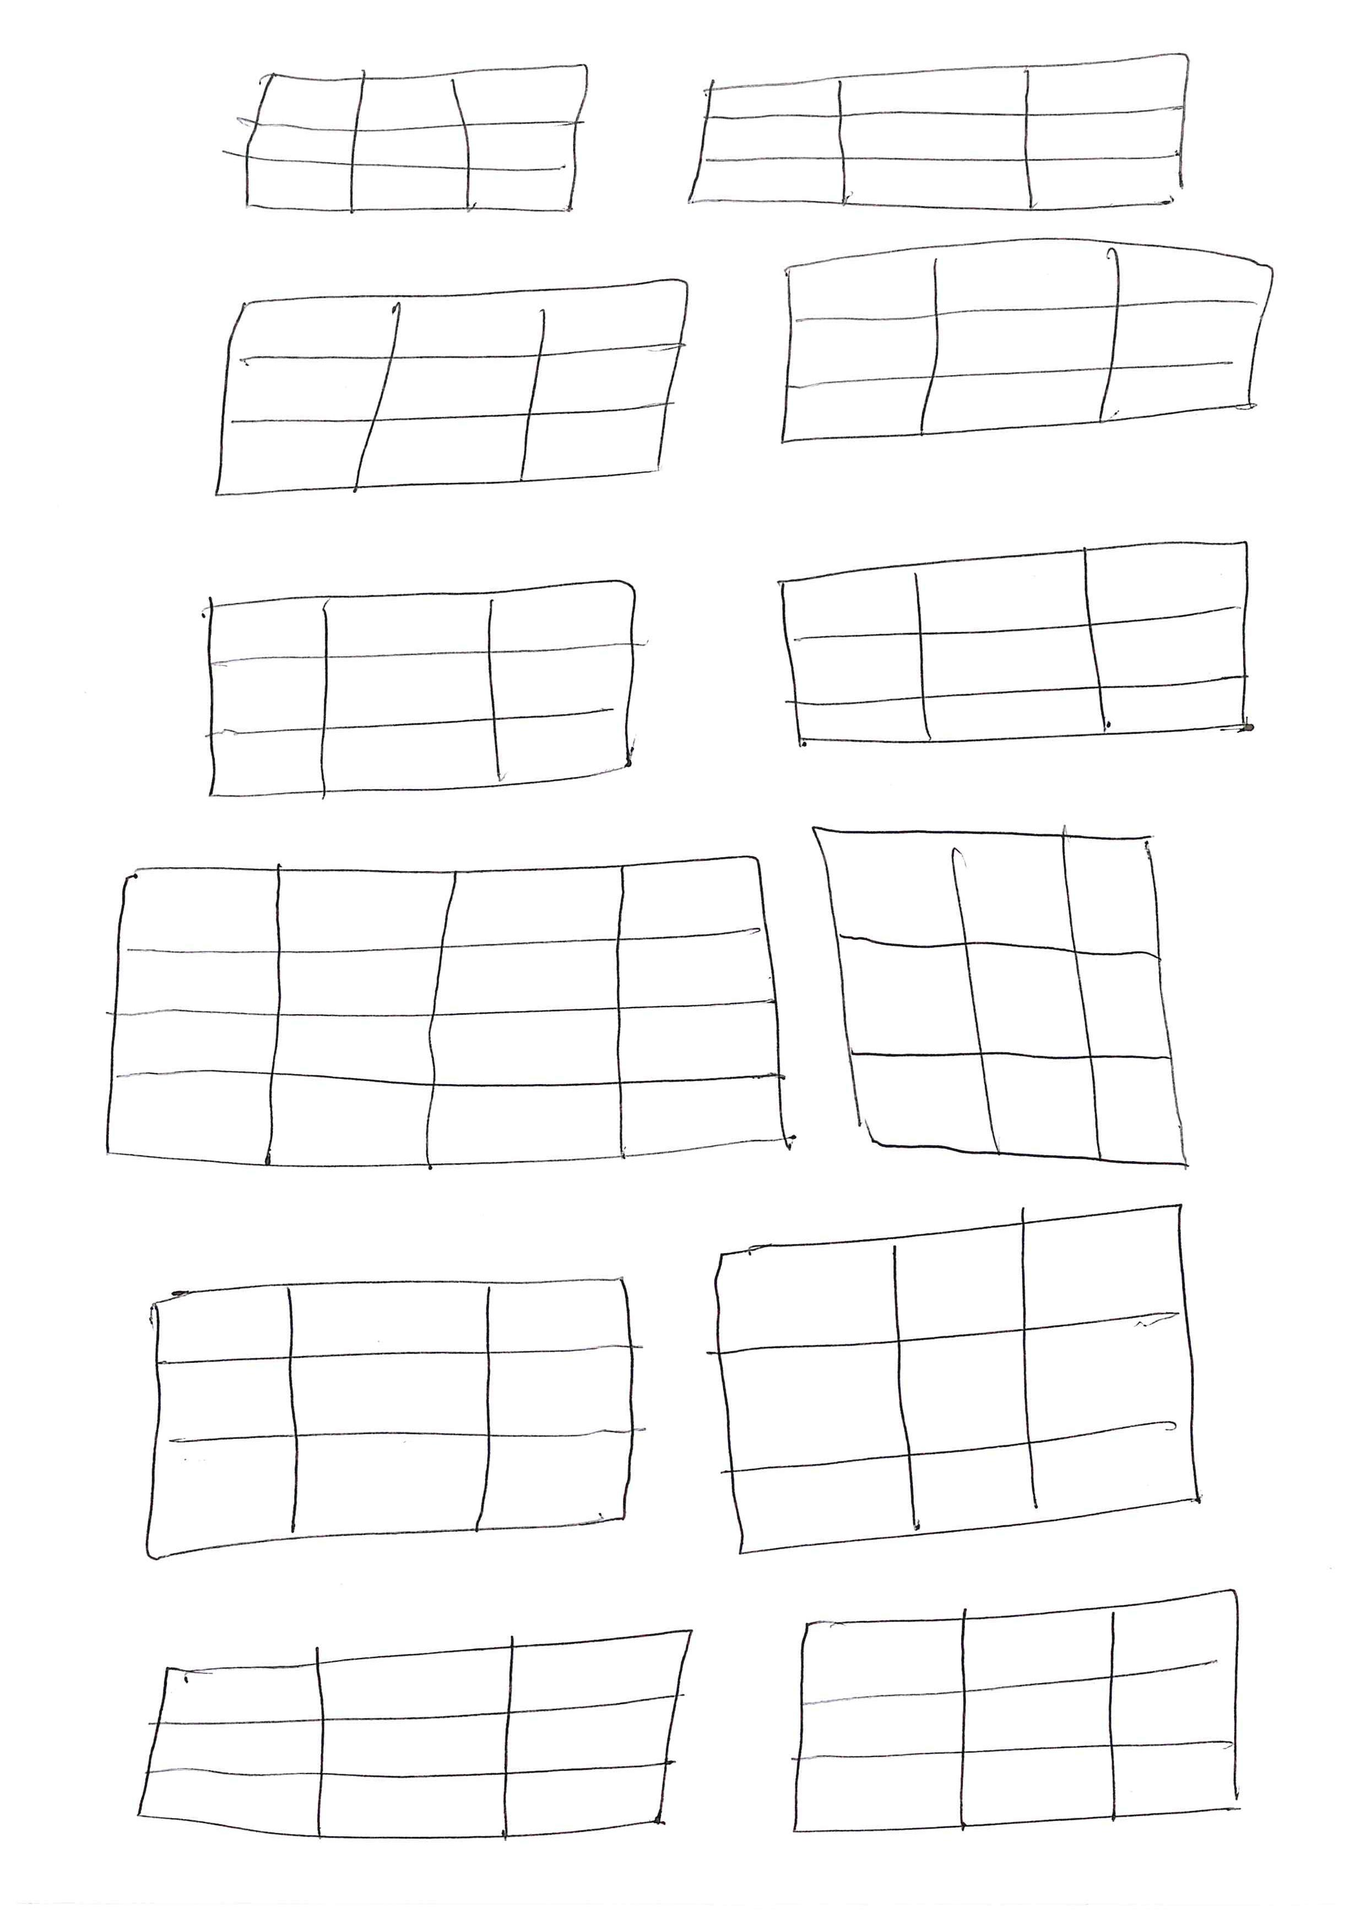Table: (98, 853, 789, 1172), (707, 1195, 1206, 1561), (136, 1273, 642, 1567), (809, 824, 1192, 1167), (127, 1623, 698, 1853), (784, 1582, 1248, 1844), (203, 271, 698, 503), (764, 232, 1271, 449), (772, 532, 1257, 750), (203, 574, 648, 806), (680, 47, 1197, 211), (237, 65, 591, 220)
